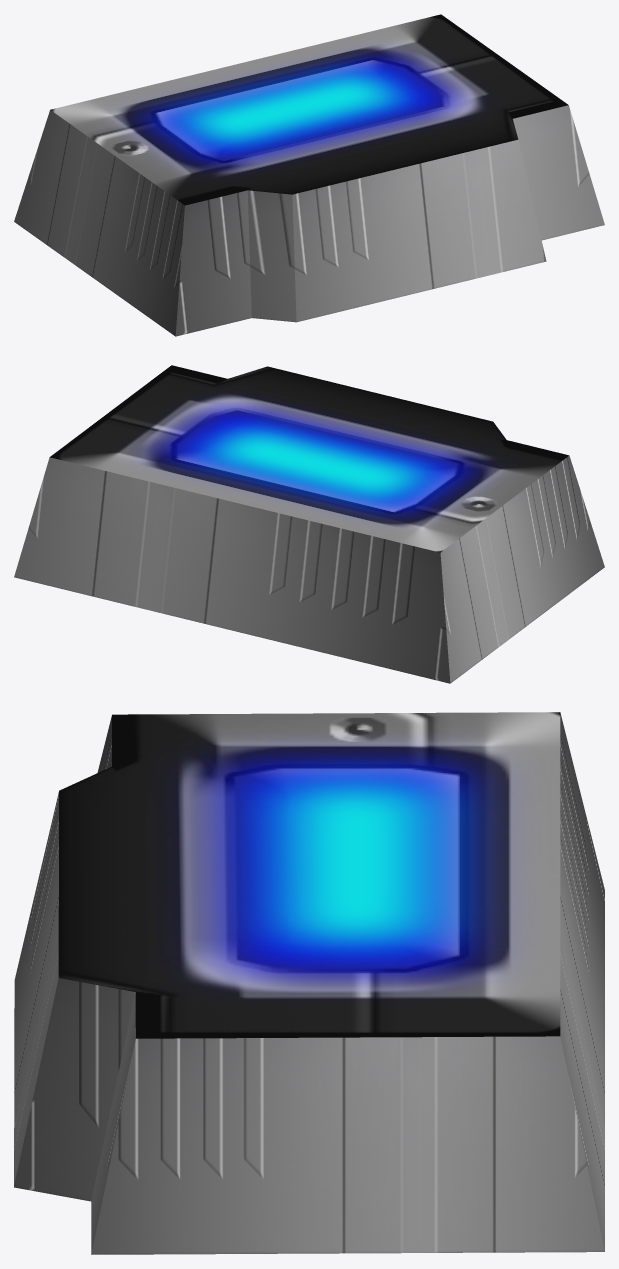
The model's file is light_1.FBX.
The picture shows the model from 3 angles, top to bottom: view 1: azimuth 30°, elevation 25°; view 2: azimuth 150°, elevation 25°; view 3: azimuth 270°, elevation 25°; orthographic projection. The views are drawn at different scales.
Parts seen in each view (by area): view 1: light_1; view 2: light_1; view 3: light_1.
Part boxes in pixels (x1=…): light_1: x1=14, y1=14, x2=604, y2=336; light_1: x1=14, y1=365, x2=604, y2=683; light_1: x1=14, y1=712, x2=604, y2=1254.
Bounding box in the file's own units: 29.48 × 7.43 × 20.19.
Materials: 1 (1 with a texture image).
